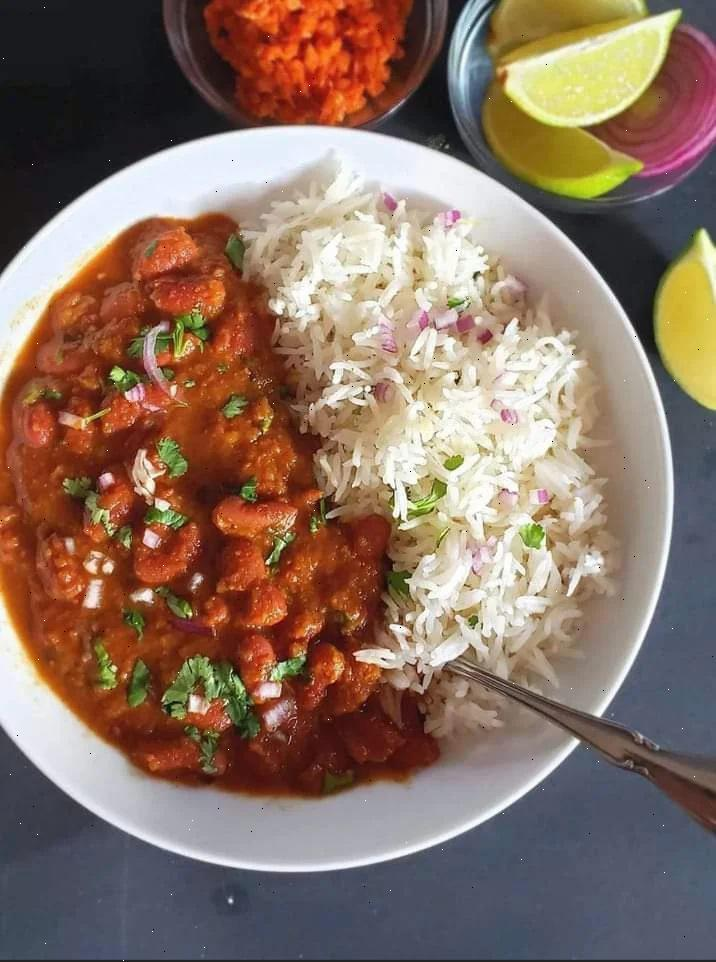rajma: (17, 282, 288, 785)
rice: (318, 205, 585, 648)
